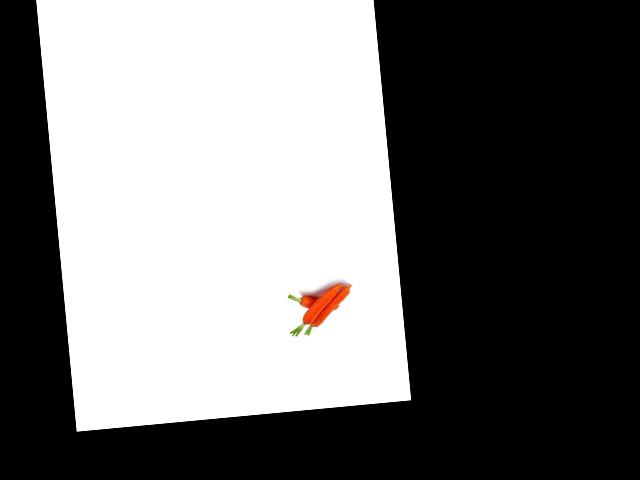carrot: (288, 291, 342, 316)
